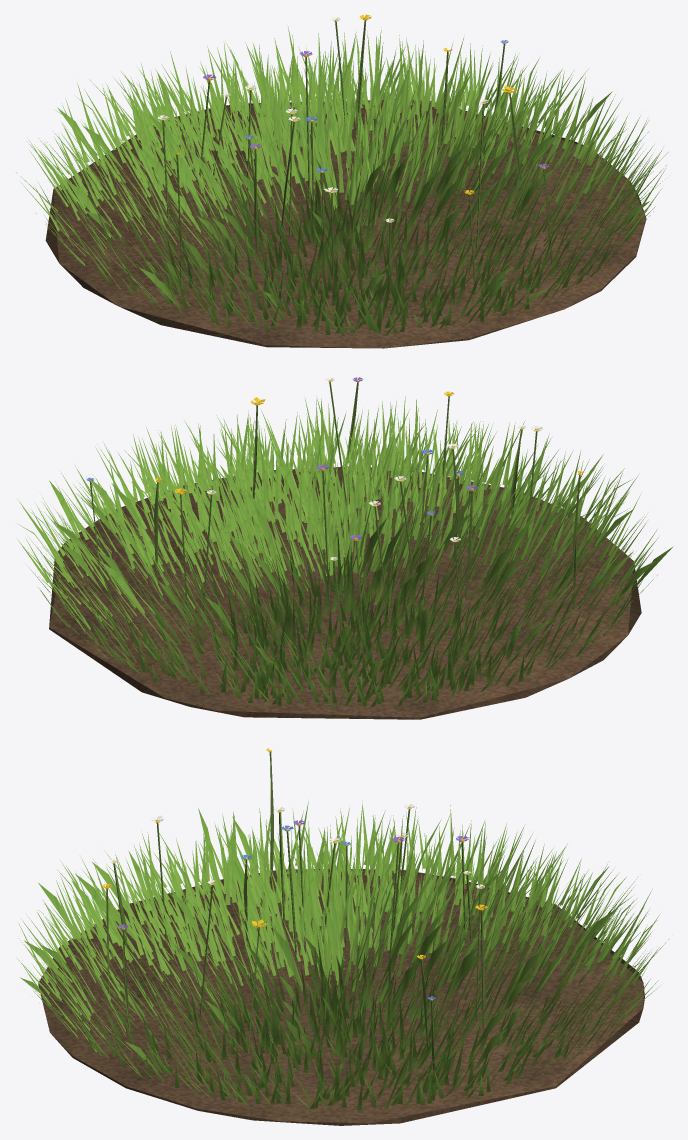
The model's file is meadow-patch.glb.
The picture shows the model from 3 angles, top to bottom: view 1: azimuth 30°, elevation 25°; view 2: azimuth 150°, elevation 25°; view 3: azimuth 270°, elevation 25°; orthographic projection.
Visible parts, largest first — view 1: Meadow_Patch; view 2: Meadow_Patch; view 3: Meadow_Patch.
Part boxes in pixels (x1,y1,x2,y2): Meadow_Patch: (16,14,668,348); Meadow_Patch: (17,377,673,719); Meadow_Patch: (17,748,668,1125).
Size of the model in its own units: 1.35 by 0.3443 by 1.35.
8 materials, 2 textured.
